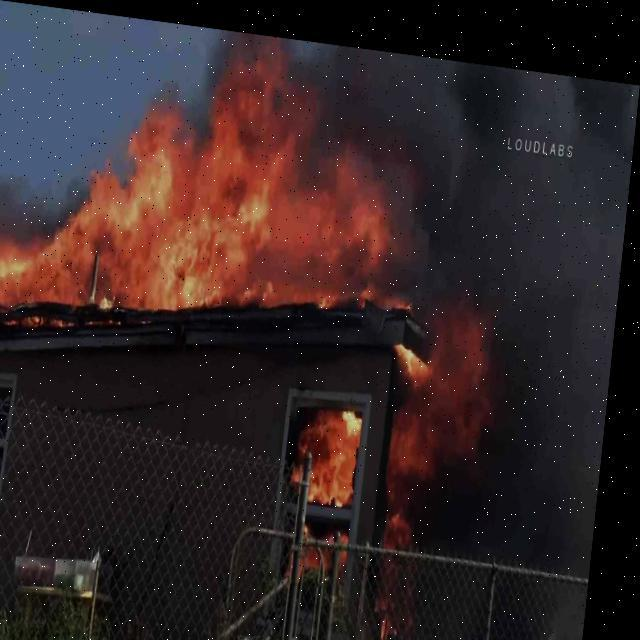Fire: (0, 6, 489, 595)
